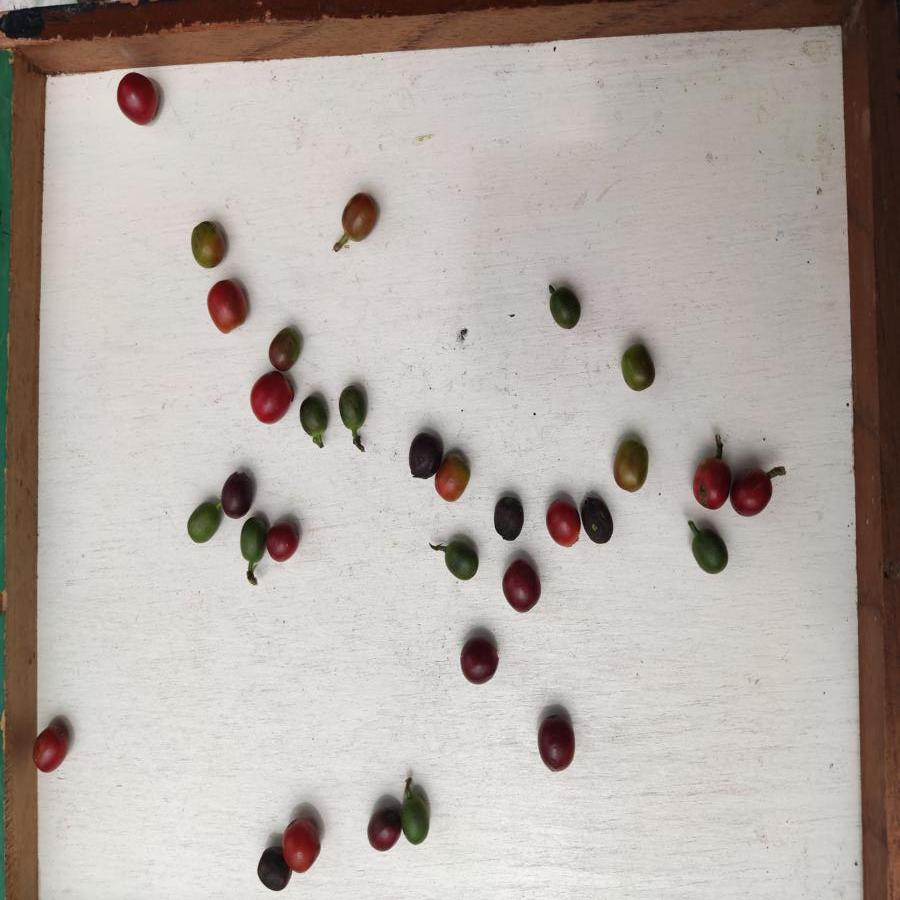Inmaduro: (692, 529, 728, 576), (400, 794, 432, 846), (336, 384, 369, 434), (441, 539, 479, 582), (549, 285, 583, 329), (239, 515, 267, 568), (185, 503, 220, 543), (298, 394, 327, 439)
Maduro: (113, 67, 161, 125), (206, 277, 248, 333), (249, 371, 293, 424), (691, 455, 730, 513), (283, 817, 319, 874), (547, 499, 580, 552), (34, 726, 67, 773)
Pinton: (620, 341, 658, 396), (614, 436, 649, 494), (341, 191, 377, 243), (190, 220, 226, 270), (441, 452, 470, 503), (269, 327, 301, 372)
Sobremaduro: (535, 713, 576, 771), (500, 559, 541, 614), (459, 636, 500, 687), (733, 465, 771, 515), (492, 493, 526, 545), (582, 496, 617, 546), (265, 519, 301, 566), (220, 469, 253, 520), (408, 429, 438, 480), (367, 808, 399, 853), (257, 845, 289, 890)
